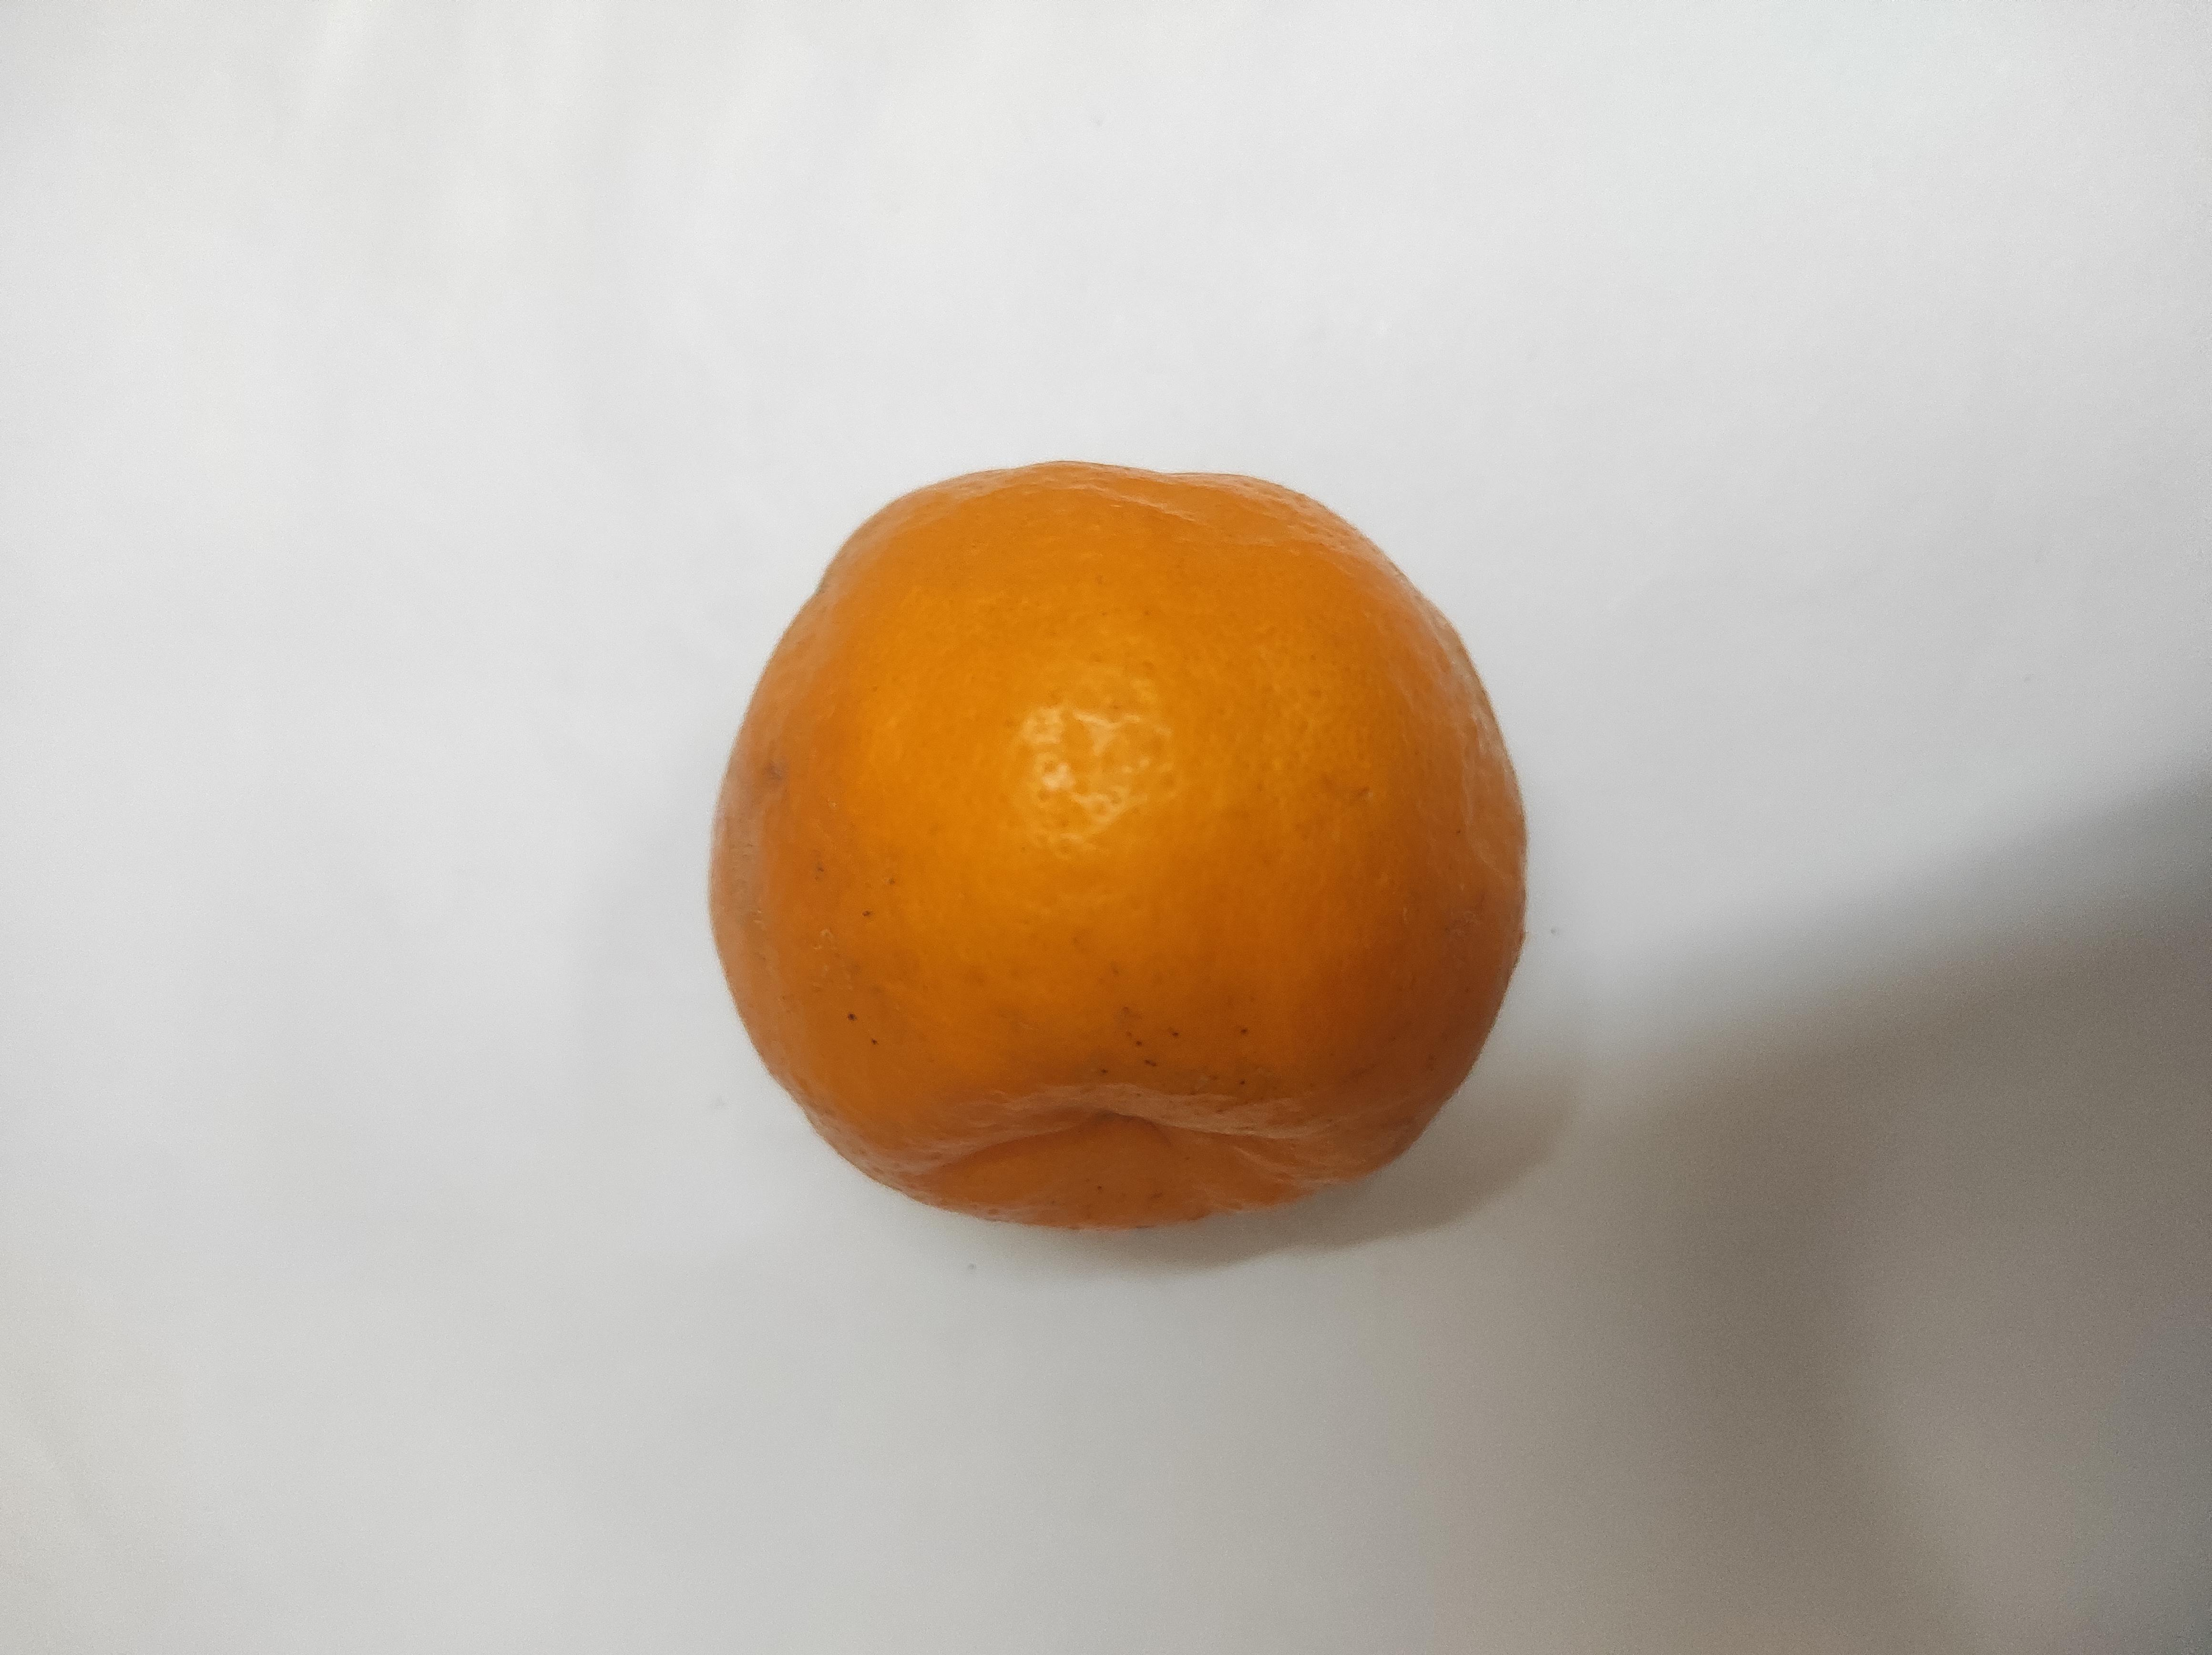Ripe: (701, 471, 1525, 1226)
